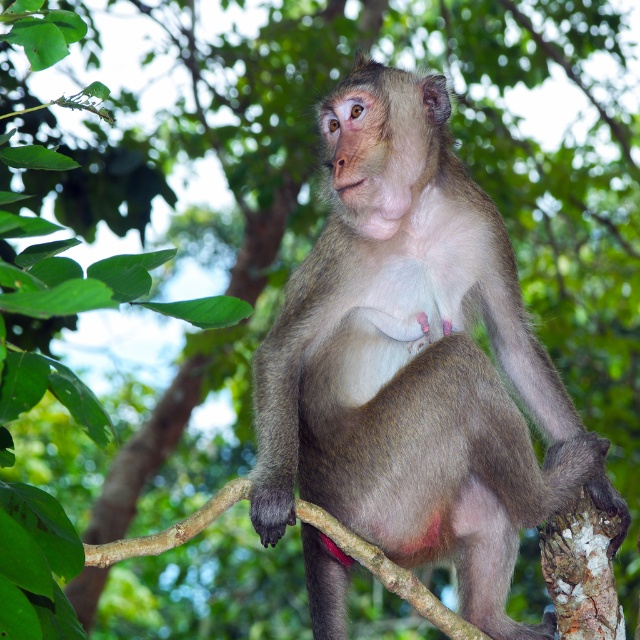Monkey: (247, 50, 630, 638)
